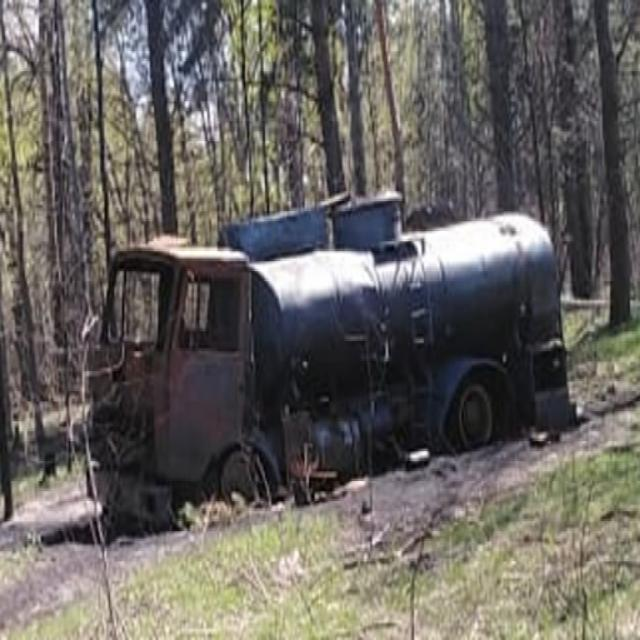TRUCK: (94, 183, 564, 519)
